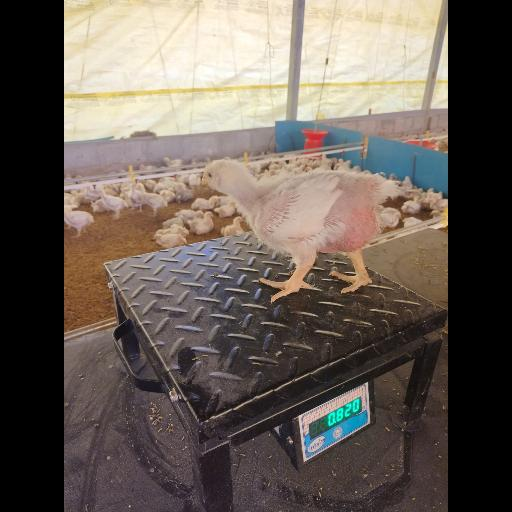chick: (200, 157, 404, 303)
